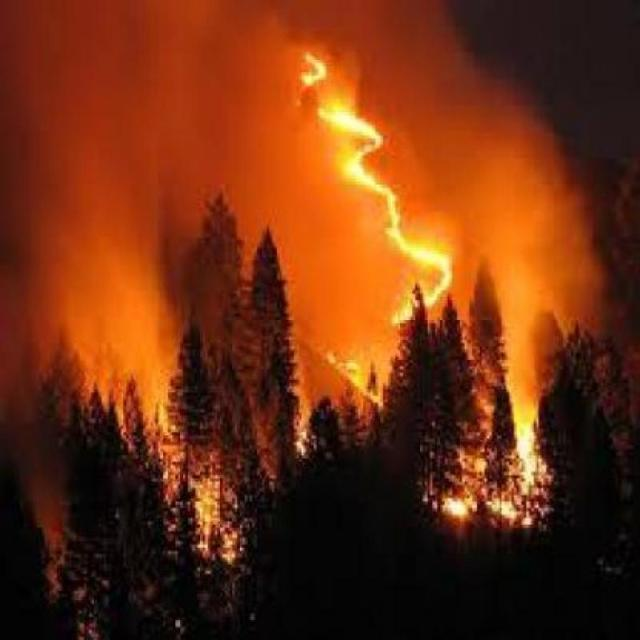Fire: (56, 202, 572, 558)
